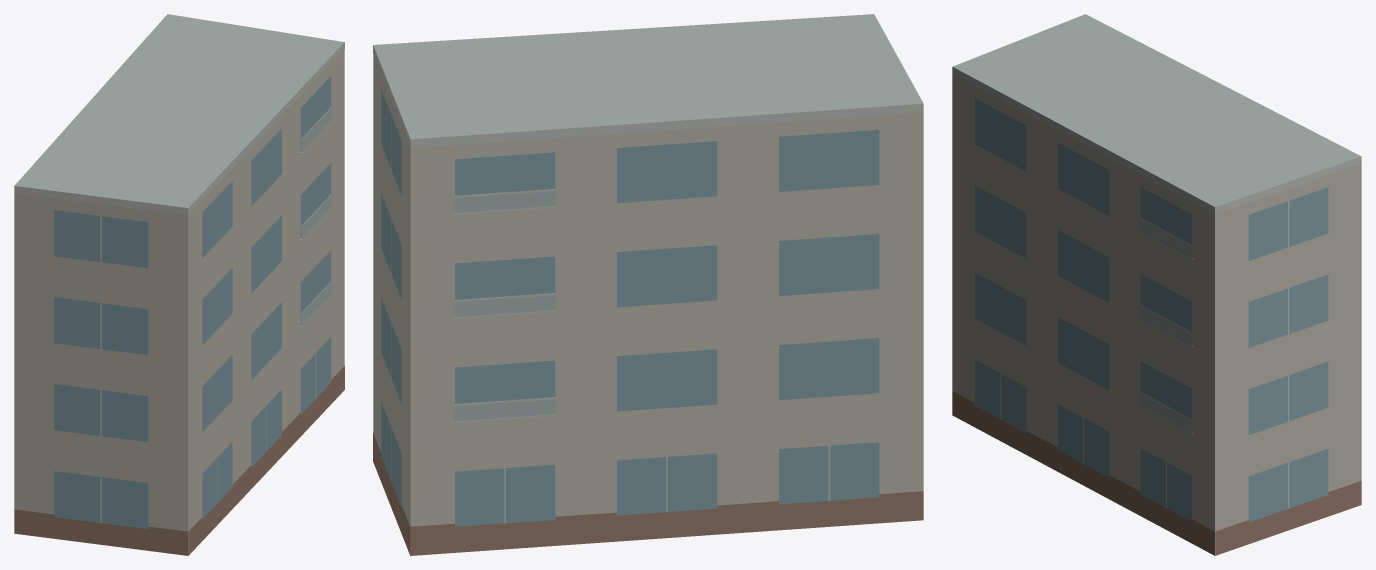
Rendered from survey-upis-32631474.glb.
The picture shows the model from 3 angles, left to right: view 1: azimuth 30°, elevation 25°; view 2: azimuth 150°, elevation 25°; view 3: azimuth 270°, elevation 25°; orthographic projection. The views are drawn at different scales.
Parts seen in each view (by area): view 1: survey-upis-32631474.tmp; view 2: survey-upis-32631474.tmp; view 3: survey-upis-32631474.tmp.
Boxes of the visible parts, x1,y1,x2,y2 form: survey-upis-32631474.tmp: (14,14,344,555); survey-upis-32631474.tmp: (373,14,923,555); survey-upis-32631474.tmp: (952,14,1361,555).
Size of the model in its own units: 13.92 by 11.7 by 12.45.
